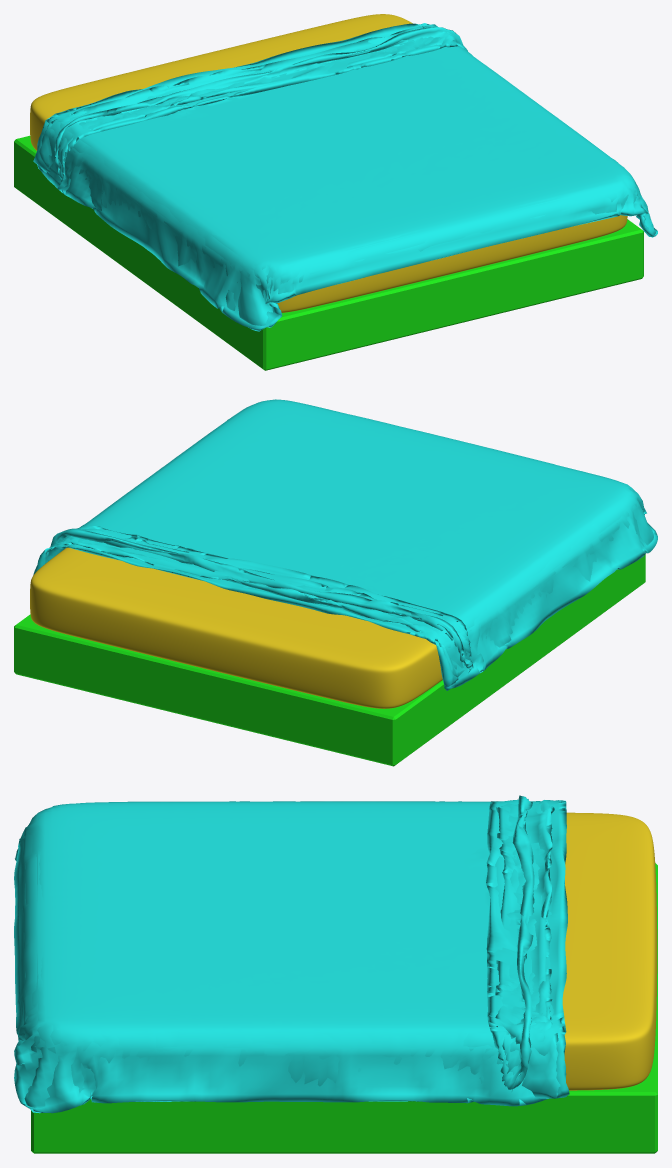
Rendered from bed2.fbx.
The picture shows the model from 3 angles, top to bottom: view 1: azimuth 30°, elevation 25°; view 2: azimuth 150°, elevation 25°; view 3: azimuth 270°, elevation 25°; orthographic projection. The views are drawn at different scales.
Visible parts, largest first — view 1: cover, base, mattress; view 2: cover, mattress, base; view 3: cover, base, mattress.
Boxes of the visible parts, bbox=[...] form: cover: bbox=[33, 23, 657, 331]; base: bbox=[14, 135, 643, 370]; mattress: bbox=[30, 14, 627, 312]; cover: bbox=[33, 399, 657, 690]; mattress: bbox=[30, 547, 442, 708]; base: bbox=[14, 554, 645, 766]; cover: bbox=[14, 795, 569, 1113]; base: bbox=[31, 863, 657, 1153]; mattress: bbox=[562, 812, 657, 1090].
Size of the model in its own units: 195 by 48.3 by 205.
